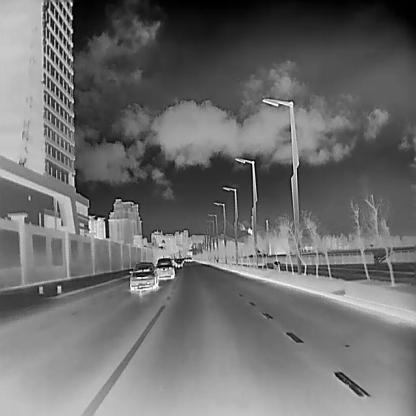car: (128, 261, 158, 290), (156, 256, 174, 279), (174, 256, 183, 266), (188, 256, 192, 262), (184, 257, 188, 261)
